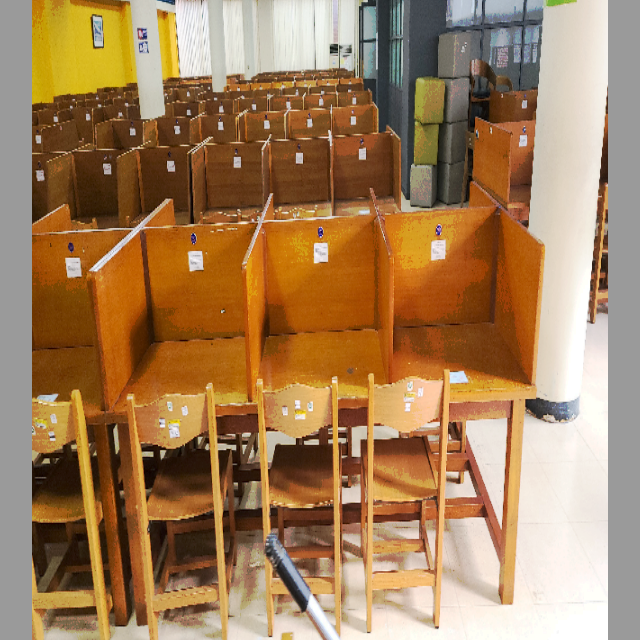empty: (97, 247, 253, 502), (258, 230, 394, 487), (397, 230, 539, 473)
